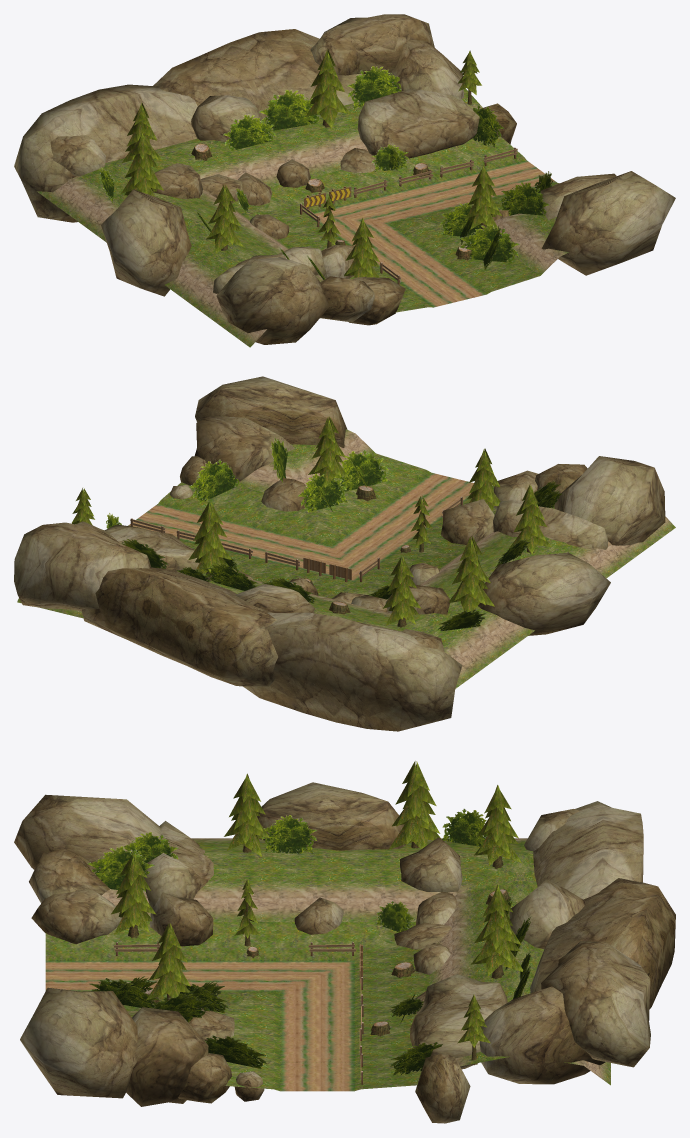
Rendered from BikeRoad016.FBX.
3 views of the same model, one above another, from view 1: azimuth 30°, elevation 25°; view 2: azimuth 150°, elevation 25°; view 3: azimuth 270°, elevation 25° (orthographic). The views are drawn at different scales.
Parts seen in each view (by area): view 1: Rock (×22), Ground, GrassPlane (×8), Tree (×8); view 2: Rock (×15), Ground, Tree (×7), GrassPlane (×5); view 3: Rock (×24), Ground, Tree (×8), GrassPlane (×9).
Part boxes in pixels (box(x1,y1,x2,y2)): Rock (×22): box(14, 14, 675, 344); Ground: box(36, 88, 568, 347); GrassPlane (×8): box(223, 66, 549, 262); Tree (×8): box(121, 49, 501, 277); Rock (×15): box(14, 376, 665, 731); Ground: box(17, 429, 675, 688); Tree (×7): box(188, 416, 551, 627); GrassPlane (×5): box(189, 450, 485, 631); Rock (×24): box(14, 782, 675, 1123); Ground: box(45, 838, 610, 1091); Tree (×8): box(111, 761, 523, 1065); GrassPlane (×9): box(87, 808, 487, 1075).
Size of the model in its own units: 4857 by 1375 by 4871.
